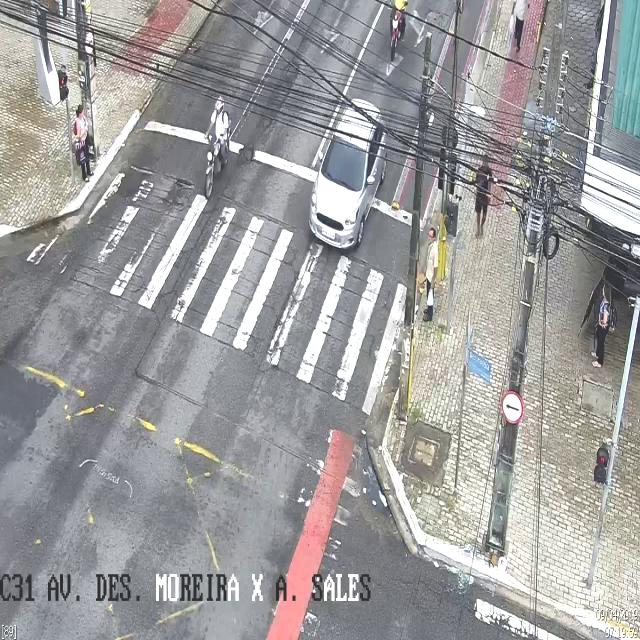Car: (308, 99, 388, 249)
Motorcycle: (204, 95, 230, 199), (389, 1, 408, 60)
